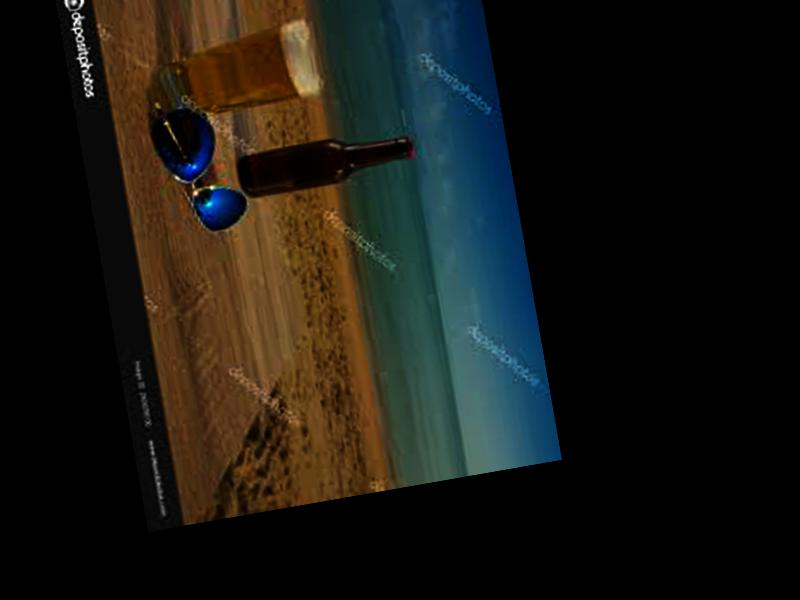Beer: (237, 125, 417, 199)
